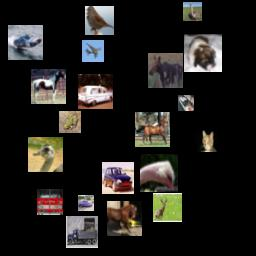airplane: (82, 40, 104, 62)
automobile: (78, 74, 113, 109), (102, 162, 134, 194), (78, 195, 94, 211)
bird: (140, 154, 178, 192), (28, 137, 63, 172), (85, 6, 114, 35), (183, 2, 202, 21)
cat: (196, 130, 218, 152)
deer: (148, 53, 183, 88), (153, 193, 182, 222)
dog: (184, 34, 222, 72)
frog: (59, 111, 81, 133)
ship: (8, 25, 43, 60), (178, 95, 194, 111)
truck: (66, 216, 98, 248), (37, 189, 63, 215)
